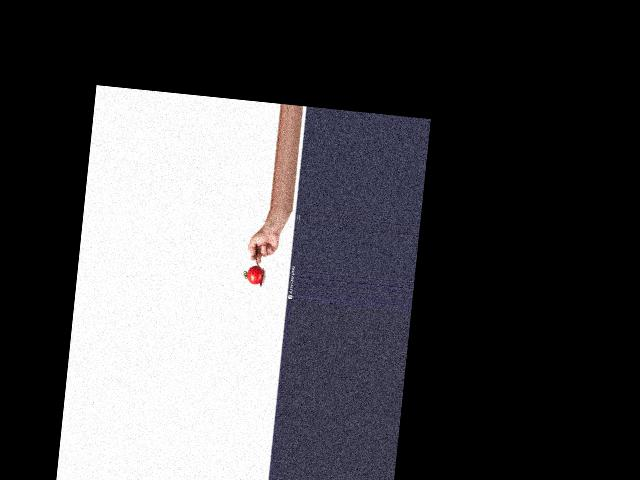tomato: (246, 264, 263, 284)
